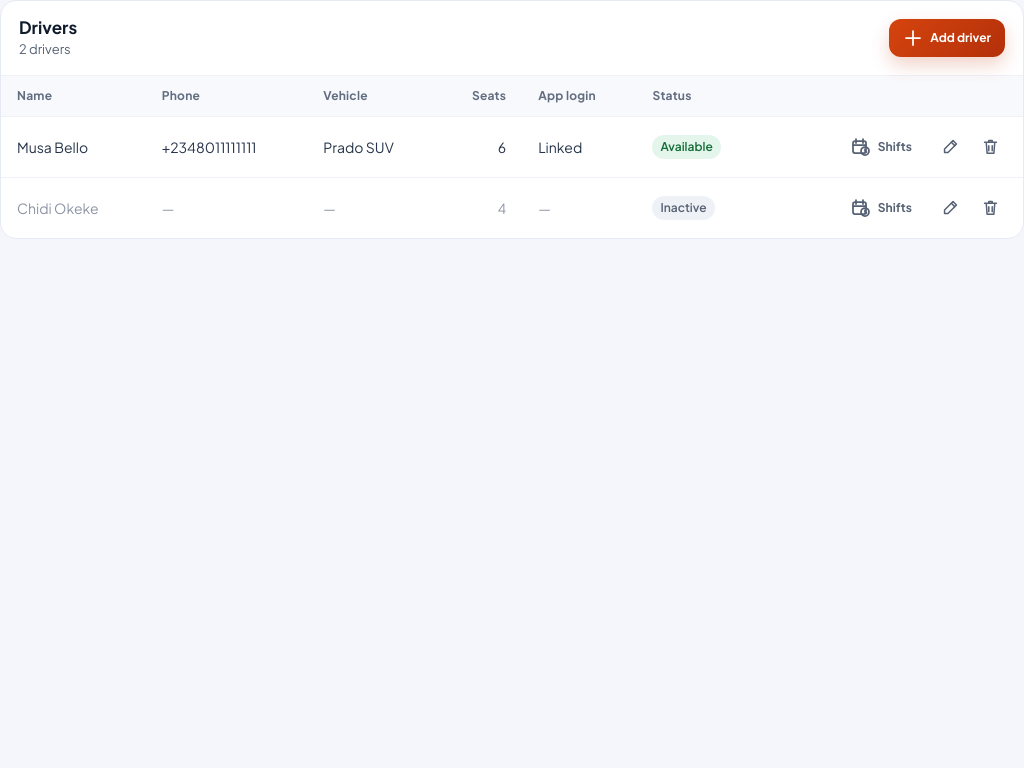
Test case: DriversTab › edits a driver: clearing the phone and login and marking them unavailable
The width and height of the screenshot is (1024, 768).
Expected: the text "2 drivers" is shown, x1=19 y1=39 x2=77 y2=59
Click the button named "Edit Musa Bello" at (950, 146), box x1=933 y1=129 x2=967 y2=163
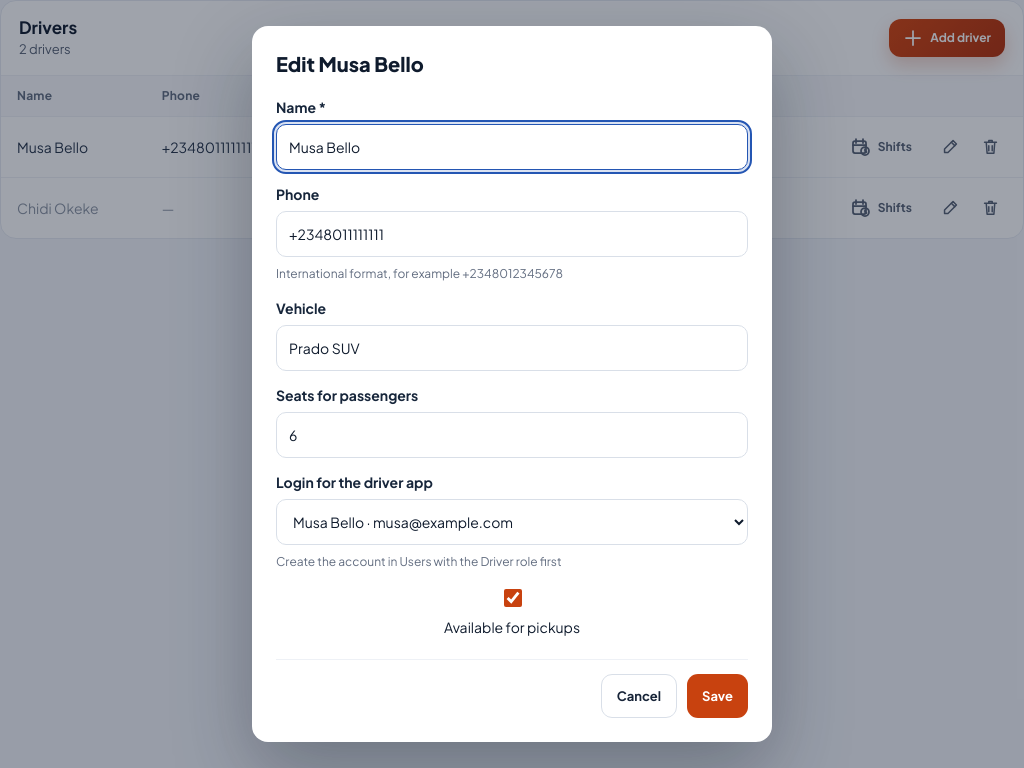
Result: the field labelled "Vehicle" holds "Prado SUV" at x1=276 y1=325 x2=748 y2=371
Clear the field labelled "Phone International format, for example +2348012345678" at (512, 234), box x1=276 y1=211 x2=748 y2=257
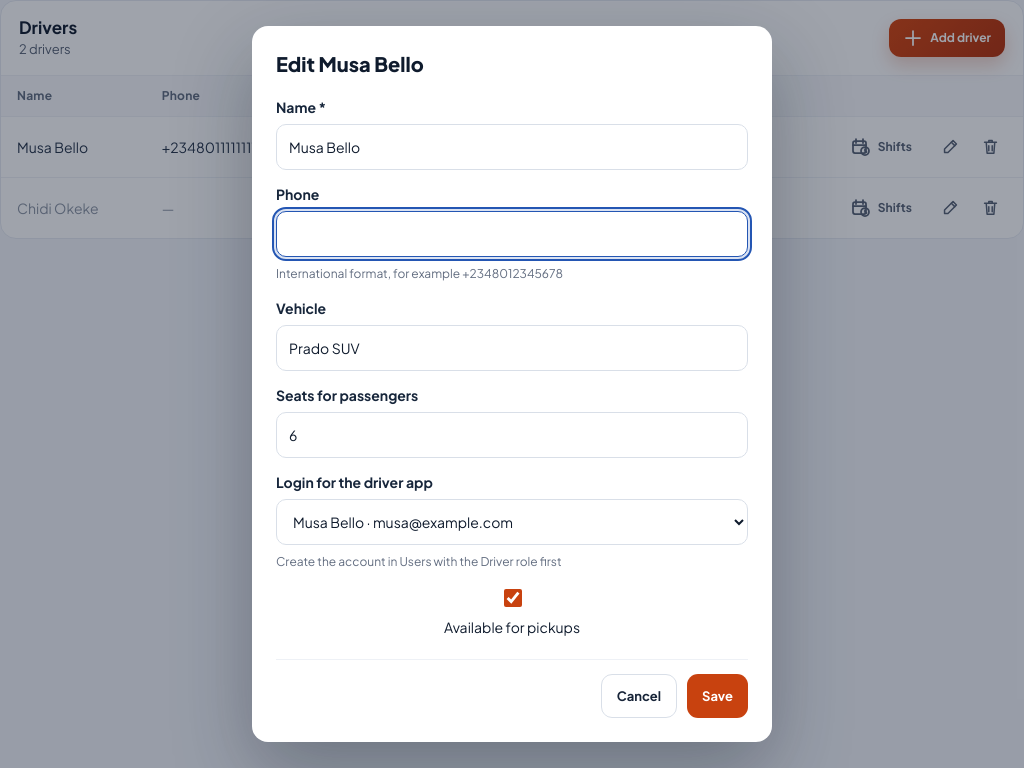
Select "No login" in the dropdown labelled "Login for the driver app" at (512, 522), box x1=276 y1=499 x2=748 y2=545
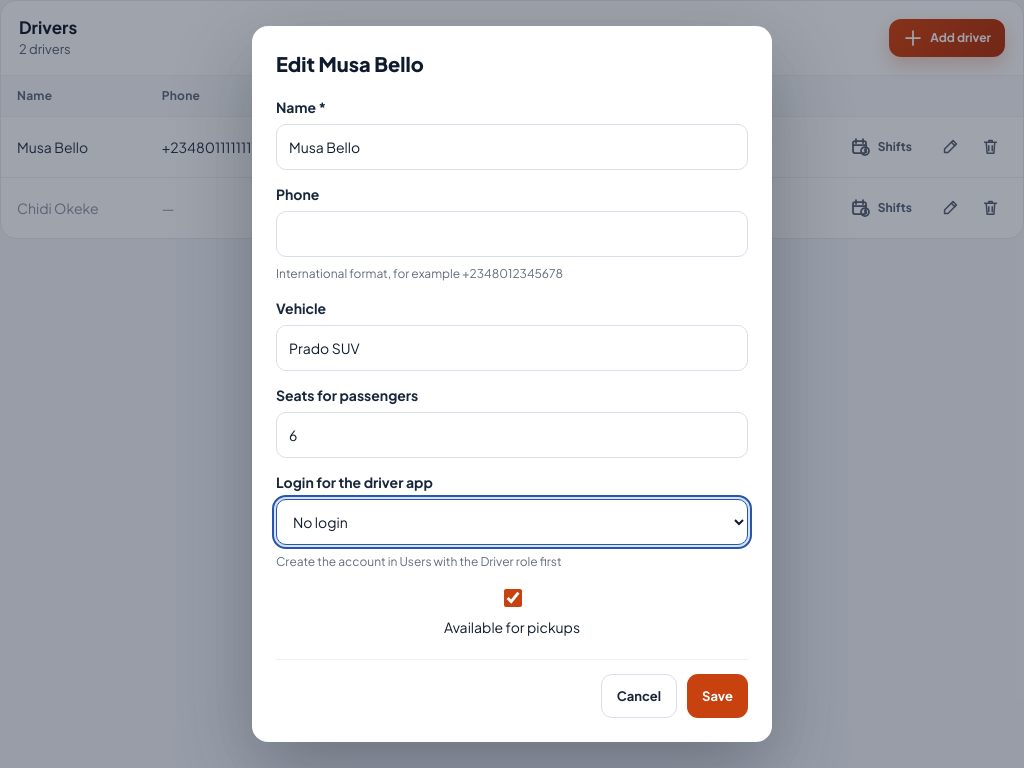
Click the checkbox labelled "Available for pickups" at (512, 598), box x1=504 y1=589 x2=522 y2=607
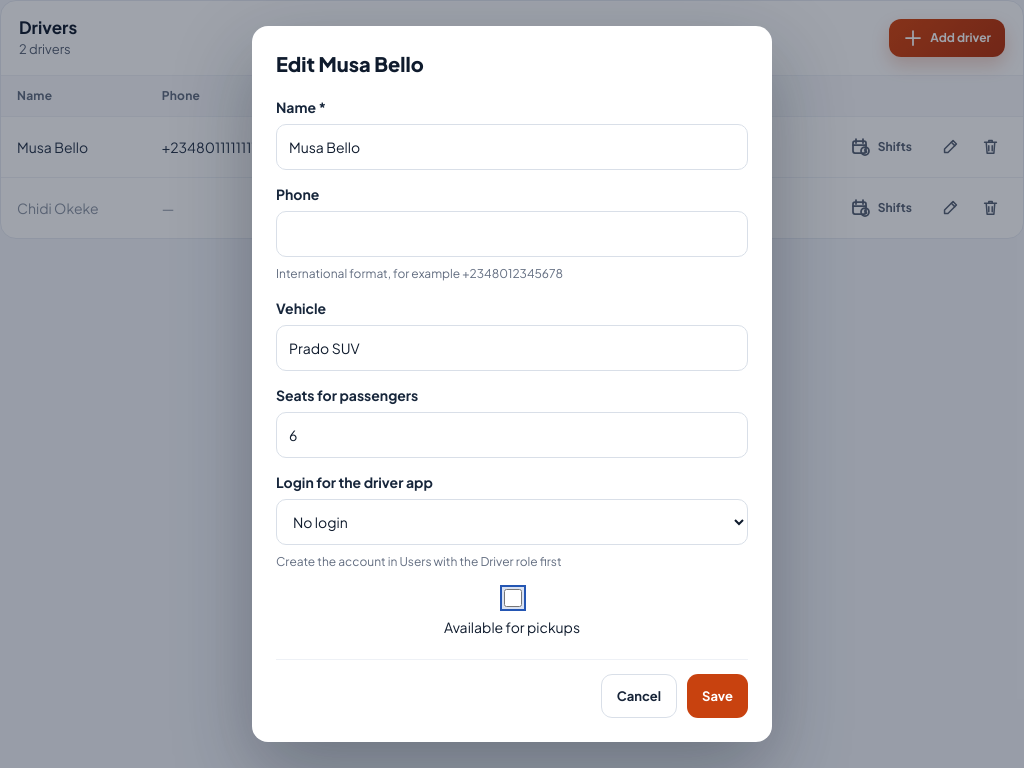
Click the button "Save" at (718, 696), box x1=687 y1=674 x2=748 y2=718
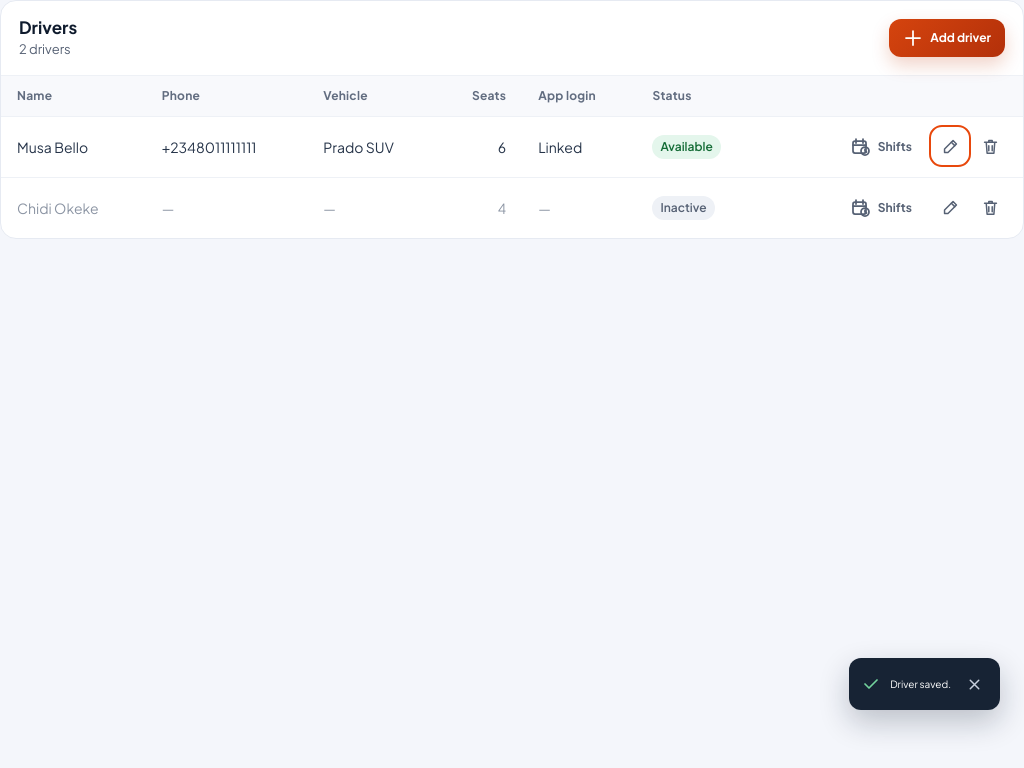
Result: the text "Driver saved." is shown at x1=890 y1=674 x2=951 y2=694
